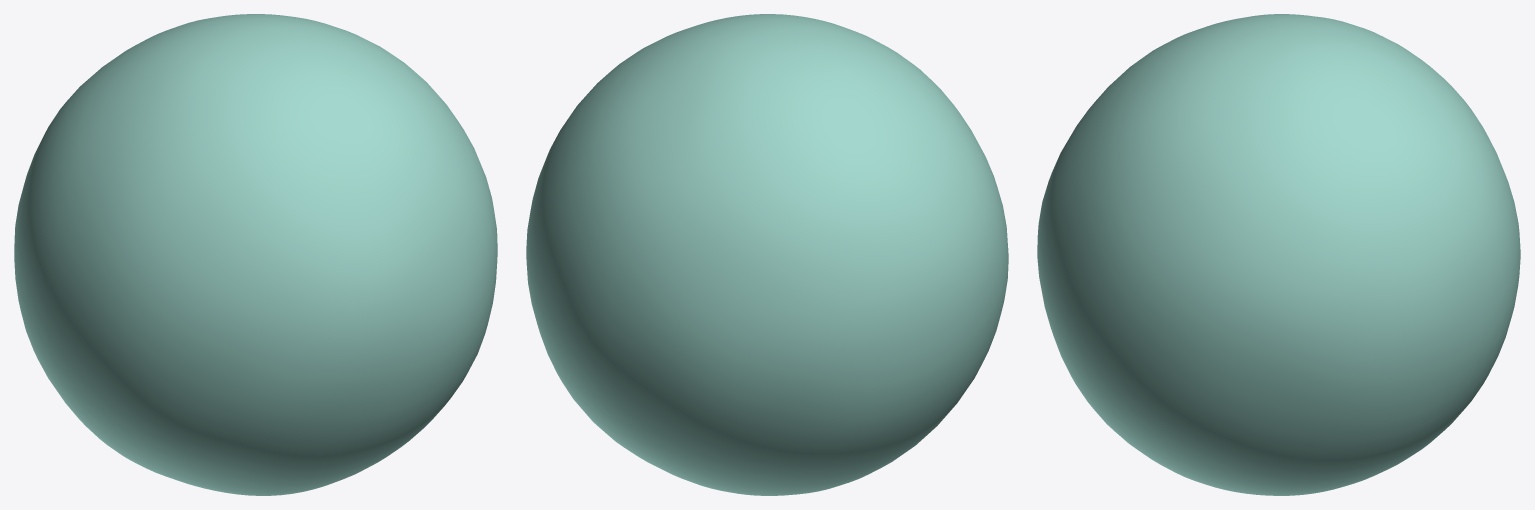
File: primordial_core.glb
3 renders of one model, left to right at view 1: azimuth 30°, elevation 25°; view 2: azimuth 150°, elevation 25°; view 3: azimuth 270°, elevation 25°, orthographic.
Parts seen in each view (by area): view 1: Membrane_Outer; view 2: Membrane_Outer; view 3: Membrane_Outer.
Part boxes in pixels (bbox=[...]): Membrane_Outer: bbox=[14, 14, 497, 495]; Membrane_Outer: bbox=[526, 14, 1008, 495]; Membrane_Outer: bbox=[1037, 14, 1520, 495].
Bounding box in the file's own units: 2 × 2 × 2.
